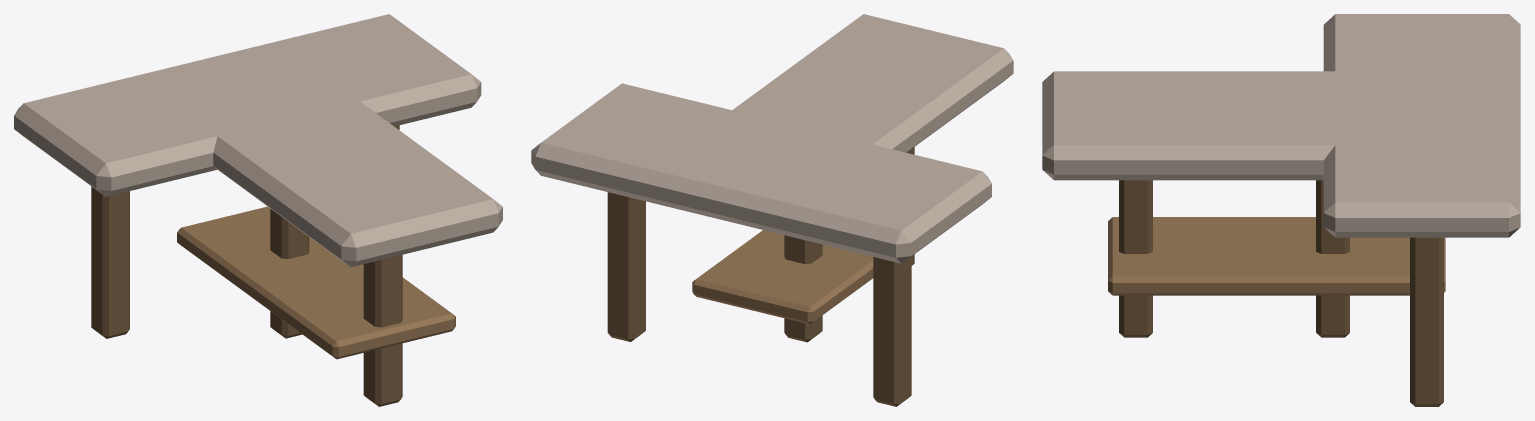
File: t_table.glb
3 views of the same model, side by side, from view 1: azimuth 30°, elevation 25°; view 2: azimuth 150°, elevation 25°; view 3: azimuth 270°, elevation 25° (orthographic). The views are drawn at different scales.
Size of the model in its own units: 1.8 by 0.95 by 1.84.
